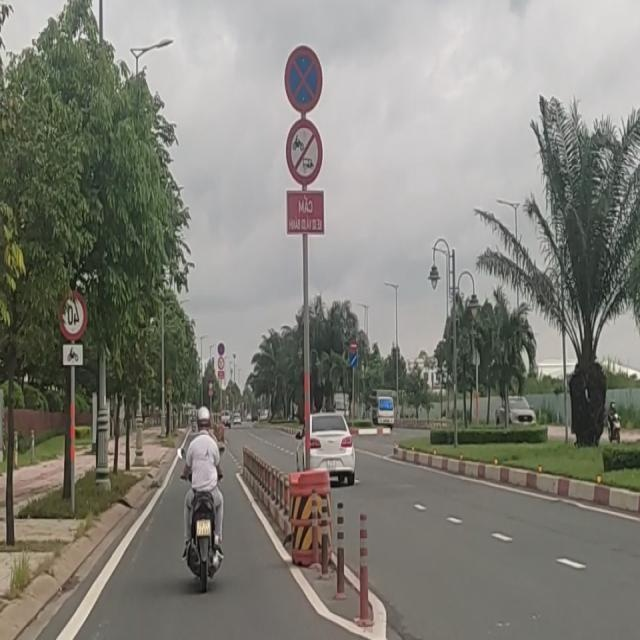P.111: (284, 116, 326, 186)
P.127*40: (57, 288, 87, 342)
P.130: (284, 37, 326, 114)
S.505a*Xe may: (61, 338, 85, 366)
